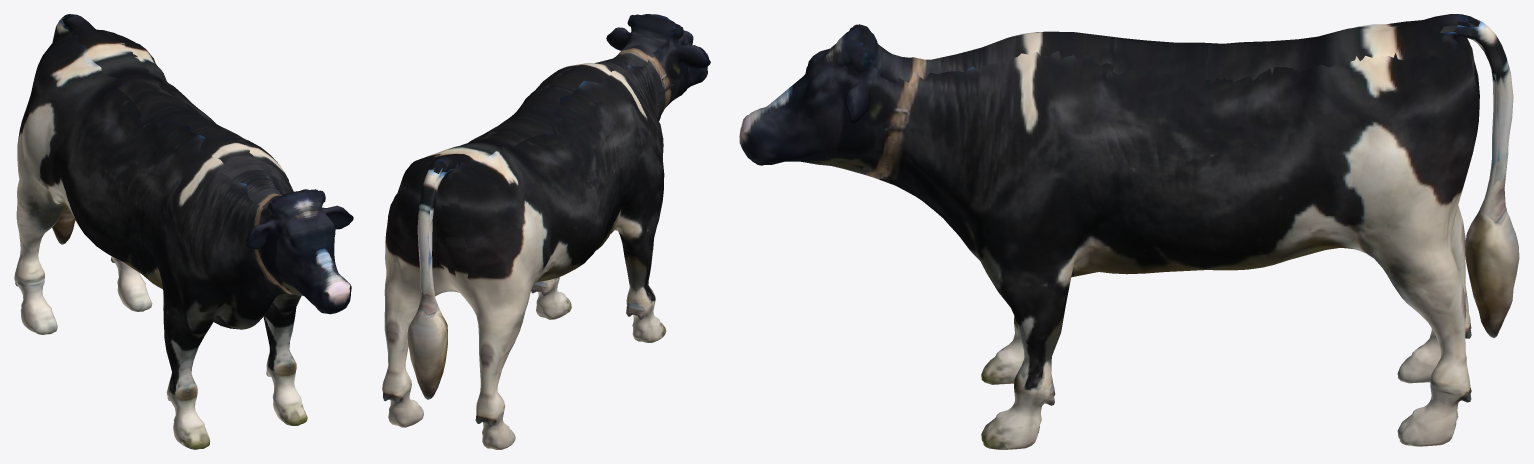
The model's file is uploads_files_3316344_Ko.fbx.
3 views of the same model, side by side, from view 1: azimuth 30°, elevation 25°; view 2: azimuth 150°, elevation 25°; view 3: azimuth 270°, elevation 25° (orthographic). The views are drawn at different scales.
Visible parts, largest first — view 1: cow_hp_final_Cube.003; view 2: cow_hp_final_Cube.003; view 3: cow_hp_final_Cube.003.
Boxes of the visible parts, x1,y1,x2,y2 form: cow_hp_final_Cube.003: (14,14,353,449); cow_hp_final_Cube.003: (382,14,710,449); cow_hp_final_Cube.003: (739,14,1519,449).
Bounding box in the file's own units: 106 × 194 × 346.
1 material, 1 textured.
